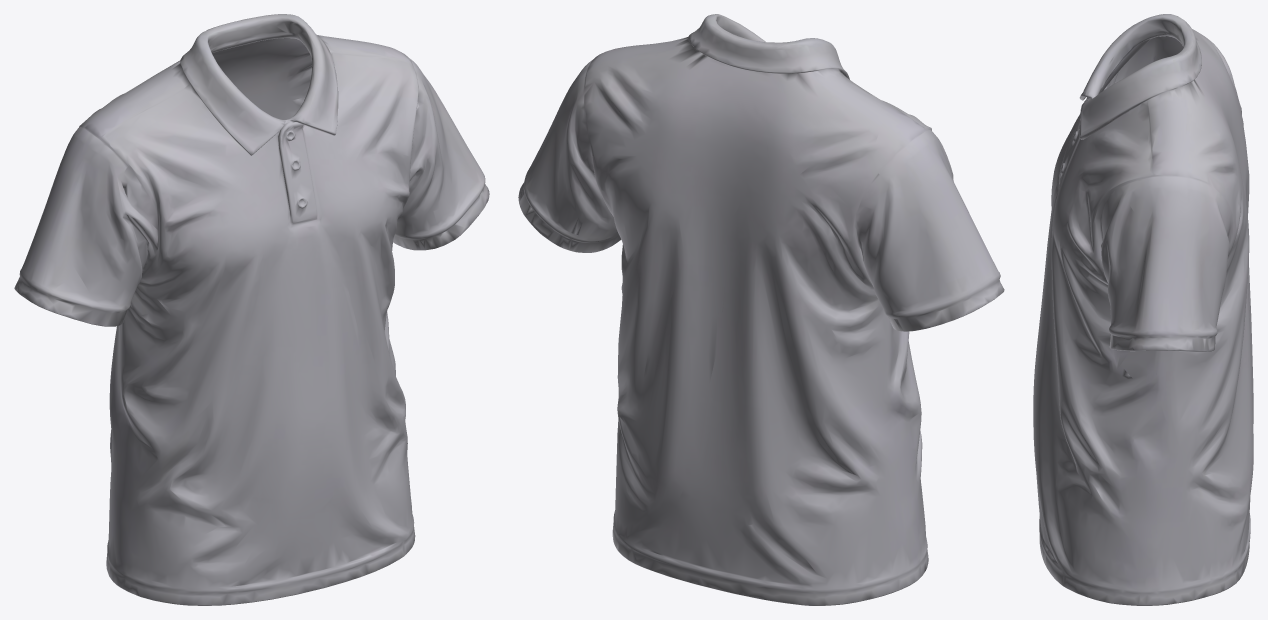
File: polo-short.glb
3 views of the same model, side by side, from view 1: azimuth 30°, elevation 25°; view 2: azimuth 150°, elevation 25°; view 3: azimuth 270°, elevation 25° (orthographic). The views are drawn at different scales.
Visible parts, largest first — view 1: material; view 2: material; view 3: material.
Boxes of the visible parts, x1,y1,x2,y2 form: material: (14, 14, 489, 605); material: (518, 14, 1004, 605); material: (1033, 14, 1253, 605).
Bounding box in the file's own units: 0.9781 × 1.05 × 0.4153.
1 material, 1 textured.
